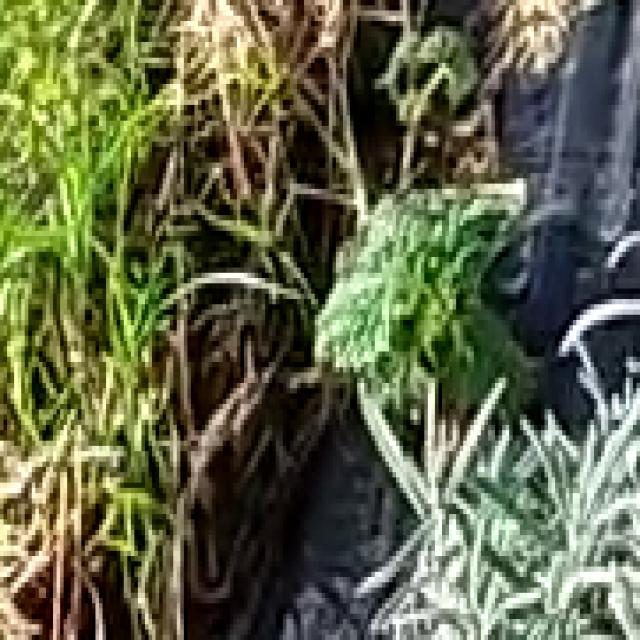organic waste: (262, 115, 552, 420)
